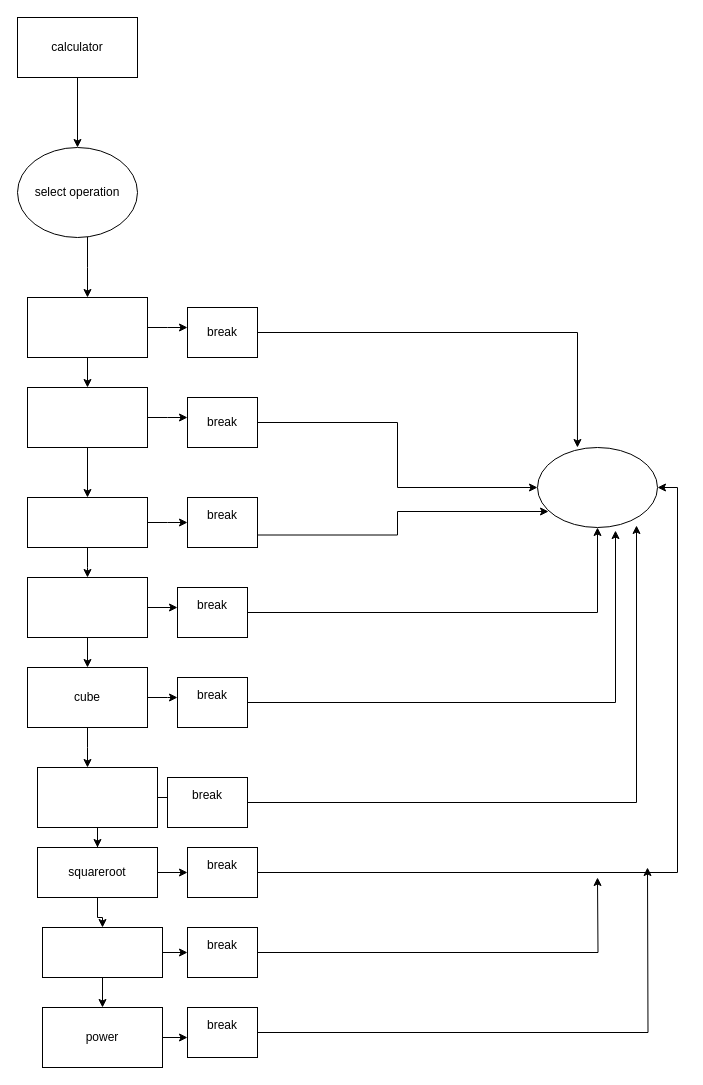
Some shapes in this 703 by 1085 pixel diagram are drawn without their labels. Each missing label, with the centre of its shape:
"addition" goes at point 87,327.
"divide" goes at point 87,607.
"EXIT" goes at point 597,487.
"factorial" goes at point 102,952.
"multiply" goes at point 87,522.
"square" goes at point 97,797.
"subtraction" goes at point 87,417.
